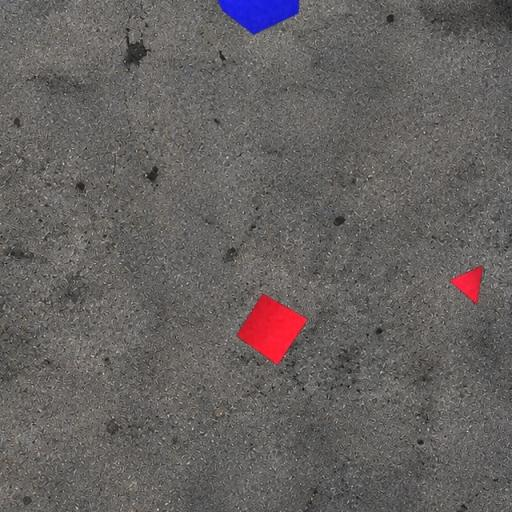RED_SQUARE: (236, 293, 309, 366)
